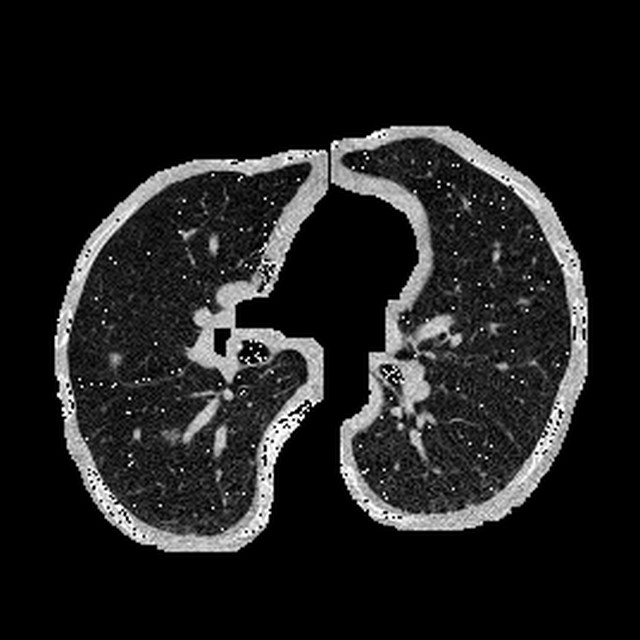PN: (109, 354, 119, 364)
